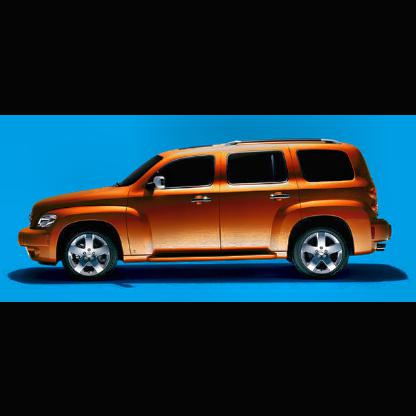Chevrolet HHR SS 2010: (18, 138, 395, 285)
